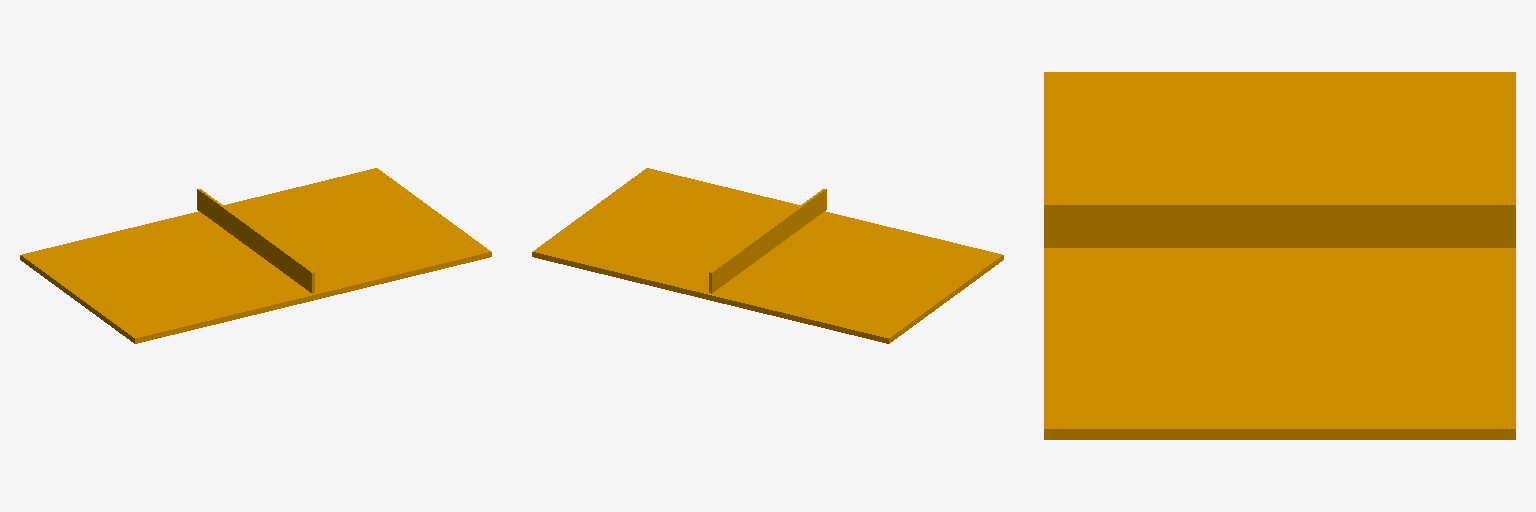
The robot description file, URDF, robot "object":
<?xml version="1.0"?>
<robot name="object">
  <link name="object">
    <visual>
      <origin xyz="0 0 0.76"/>
      <geometry>
        <box size="2.74 1.525 0.04"/>
      </geometry>
    </visual>
    <collision>
      <origin xyz="0 0 0.76"/>
      <geometry>
        <box size="2.74 1.525 0.04"/>
      </geometry>
    </collision>
    <visual>
      <origin xyz="0 0 0.87"/>
      <geometry>
        <box size="0.02 1.525 0.1525"/>
      </geometry>
    </visual>
    <collision>
      <origin xyz="0 0 0.87"/>
      <geometry>
        <box size="0.02 1.525 0.1525"/>
      </geometry>
    </collision>
  </link>
</robot>

--- What the picture shows (computed from the rendered views, not written in the file) ---
Views: 3 orthographic renders of the robot side by side, from view 1: azimuth 30°, elevation 25°; view 2: azimuth 150°, elevation 25°; view 3: azimuth 270°, elevation 25°.
Robot: object — 1 links, 0 joints (none); root link object; default pose: all joints at 0.
Links seen in each view (by area): view 1: object; view 2: object; view 3: object.
Boxes of the visible links, left/top/right/bottom form: object: left=20, top=168, right=491, bottom=343; object: left=532, top=168, right=1003, bottom=343; object: left=1044, top=72, right=1515, bottom=439.
Size in the robot's own frame: 2.74 by 1.52 by 0.2063 metres.
Geometry: primitives only (box / cylinder / sphere), no mesh files.